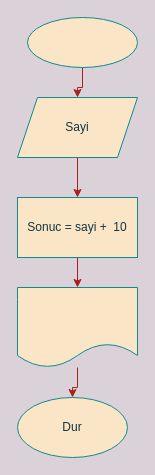
Some shapes in this 155 by 475 pixel diagram are drawn without their labels. The box of each missing label's shape, as (x1, y1, x2, y2) in pixels:
Başla: (26, 16, 138, 68)
Sonuc: (16, 286, 138, 368)
